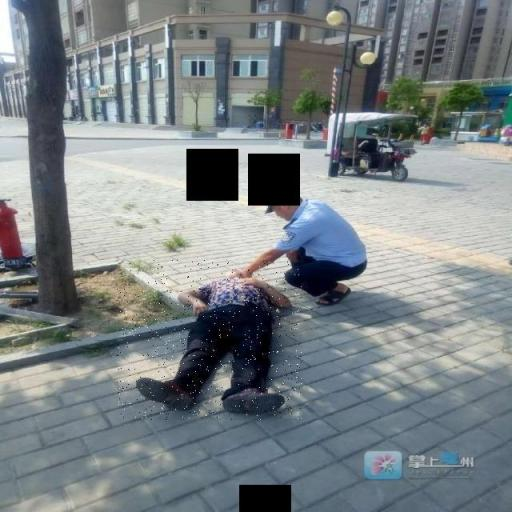Fall: (117, 260, 302, 420)
